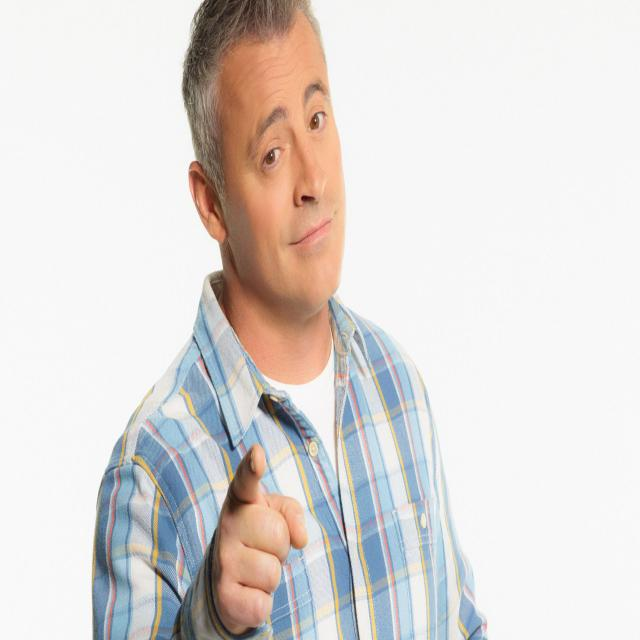human: (91, 5, 492, 640)
